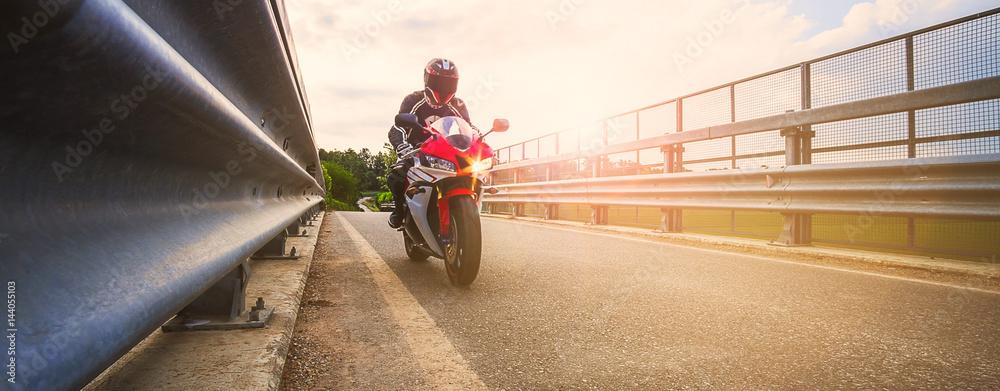helmet: (423, 57, 459, 106)
